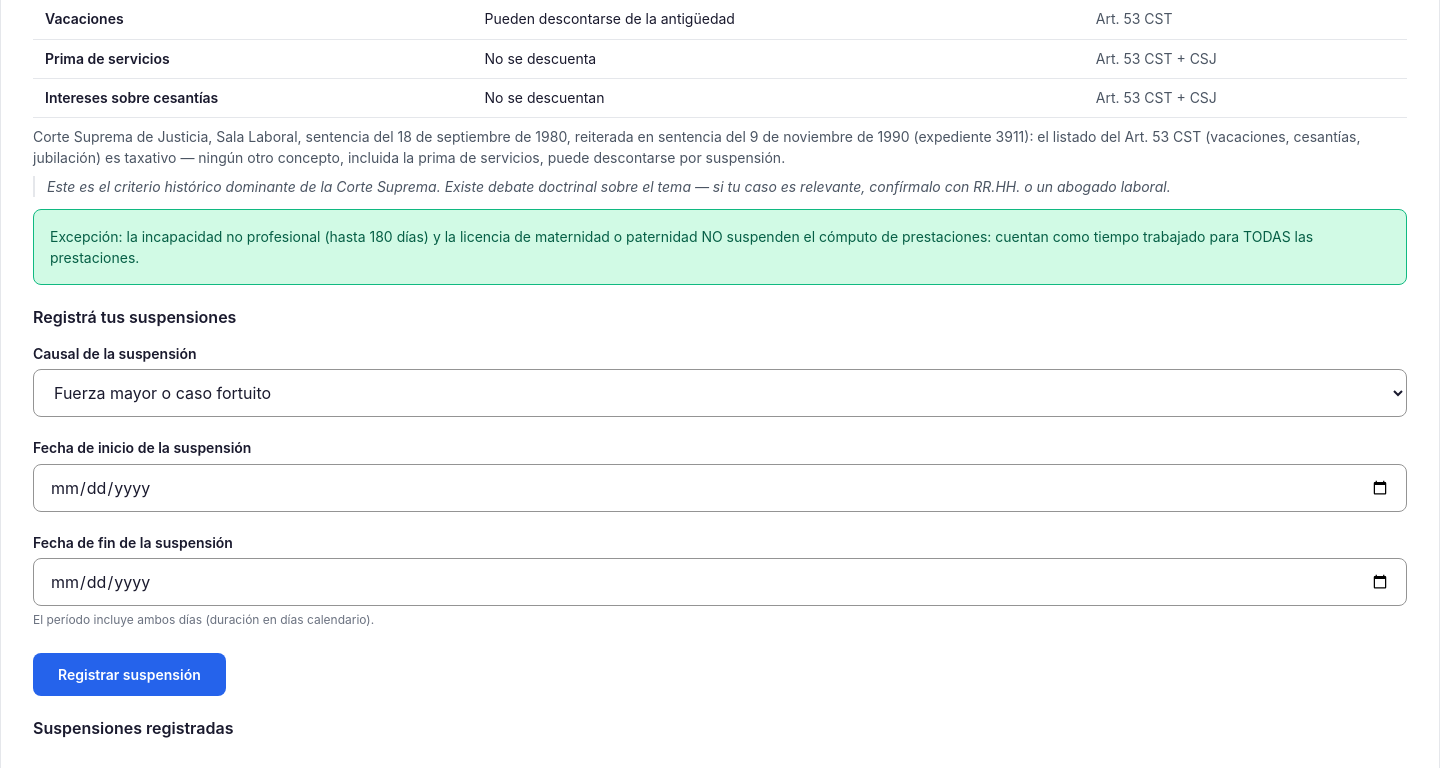
Test: SuspensionSection — D11 first/reincidencia contract › blocks submit without an explicit first/reincidencia answer and persists nothing
(page scrolled)
Step 1. Select "Suspensión disciplinaria" in the dropdown labelled "Causal de la suspensión" → (720, 393), box [33,369,1407,417]
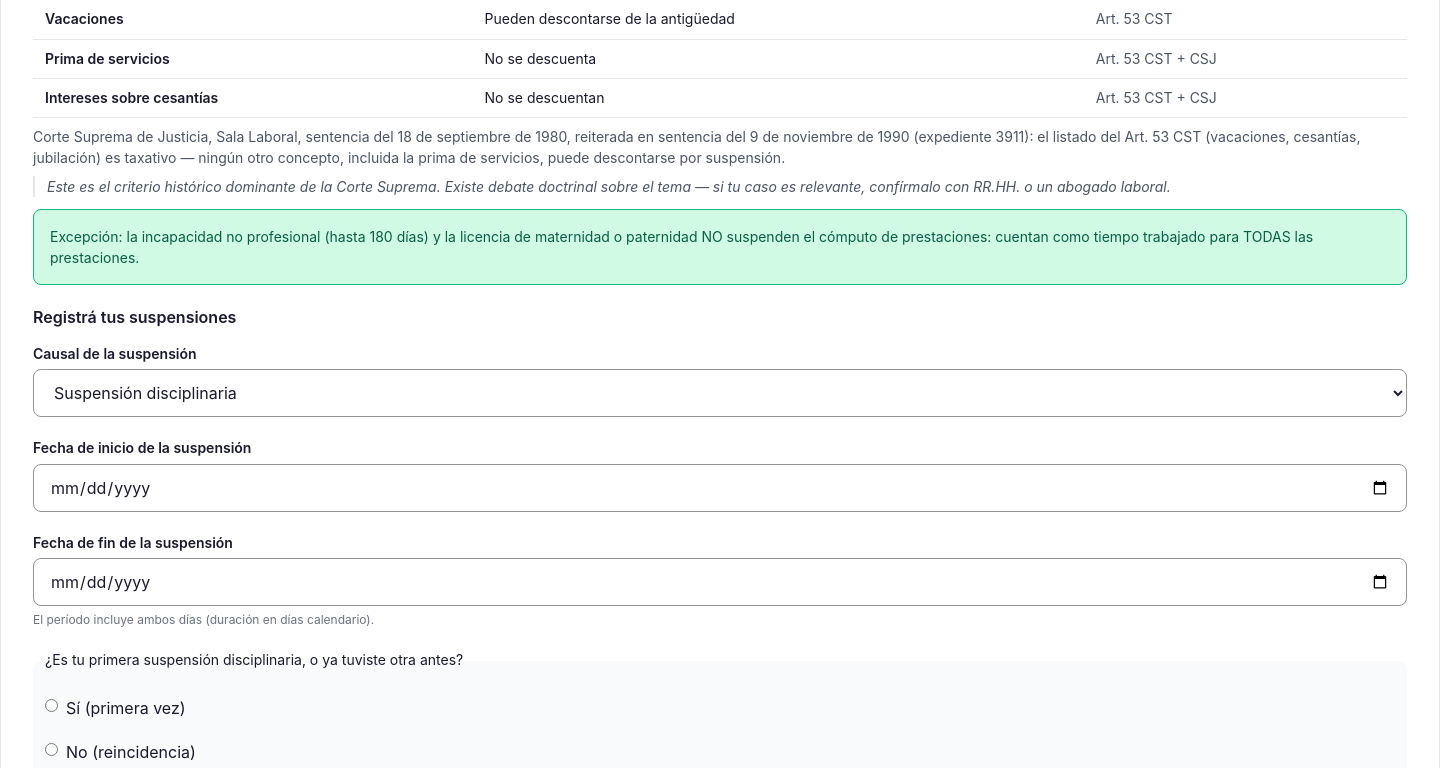
Step 2. Type "2026-01-01" into the date field labelled "Fecha de inicio de la suspensión" → (720, 488), box [33,464,1407,512]
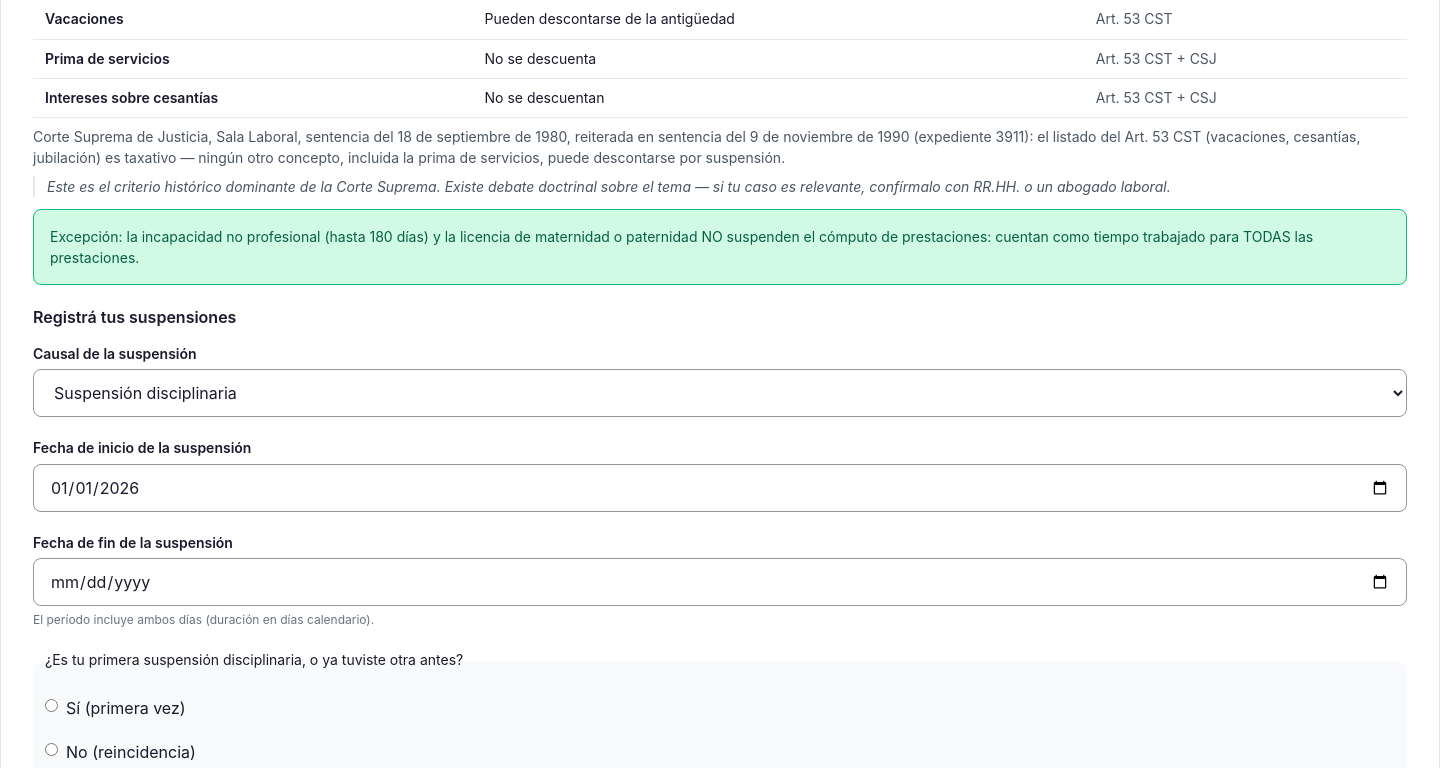
Step 3. Type "2026-01-05" into the date field labelled "Fecha de fin de la suspensión" → (720, 582), box [33,558,1407,606]
(page scrolled)
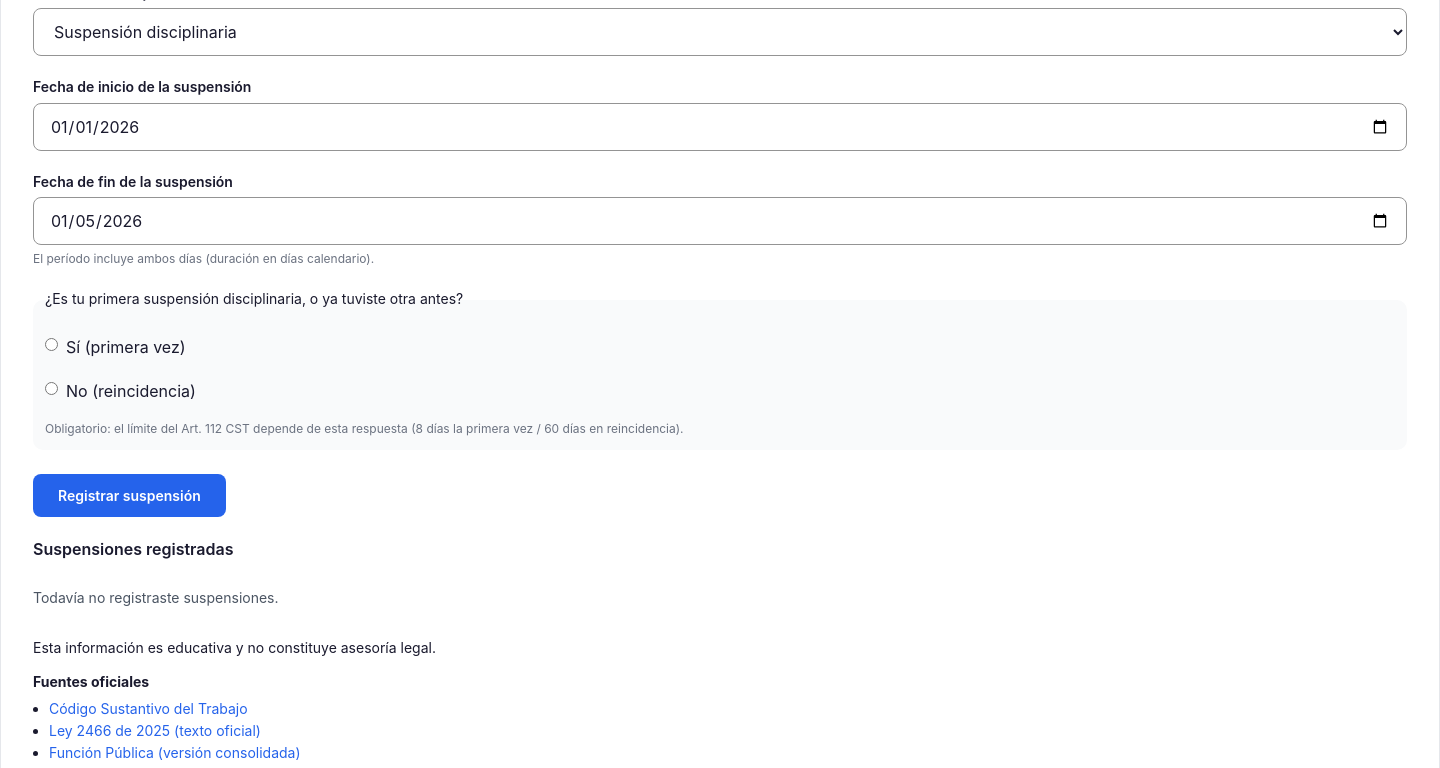
Step 4. Click the button "Registrar suspensión" → (129, 495), box [33,474,226,517]
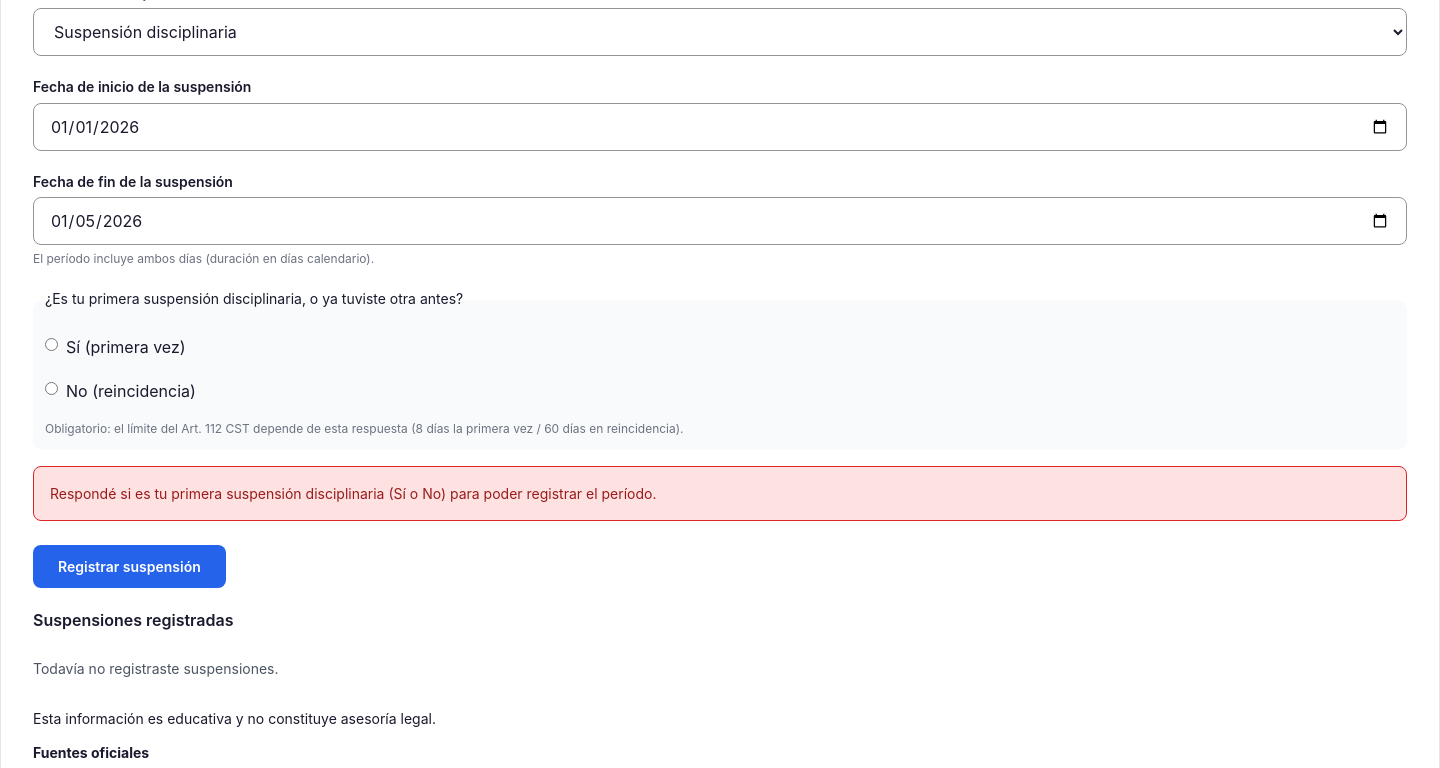
Expected: the text "Todavía no registraste suspensiones." is shown, [33,660,278,676]
Now the message shows "Respondé si es tu primera suspensión disciplinaria (Sí o No)", box [50,485,656,502]
